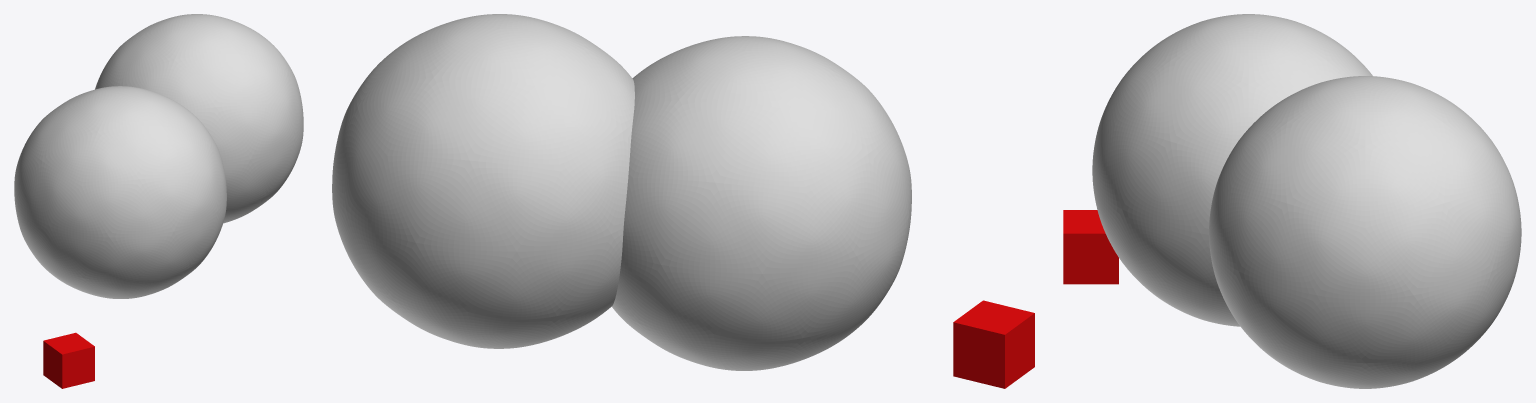
File: animation_Colony_006.fbx
3 views of the same model, side by side, from view 1: azimuth 30°, elevation 25°; view 2: azimuth 150°, elevation 25°; view 3: azimuth 270°, elevation 25° (orthographic). The views are drawn at different scales.
Visible parts, largest first — view 1: Icosphere, Icosphere.001, Cube; view 2: Icosphere.001, Icosphere, Cube; view 3: Icosphere.001, Icosphere, Cube.
Part boxes in pixels (x1,y1,x2,y2): Icosphere: (14, 86, 226, 298); Icosphere.001: (95, 14, 303, 223); Cube: (43, 332, 94, 388); Icosphere.001: (332, 14, 634, 348); Icosphere: (611, 36, 911, 370); Cube: (953, 300, 1034, 388); Icosphere.001: (1209, 76, 1521, 388); Icosphere: (1092, 14, 1372, 326); Cube: (1063, 210, 1118, 284).
Bounding box in the file's own units: 331 × 223 × 271.
